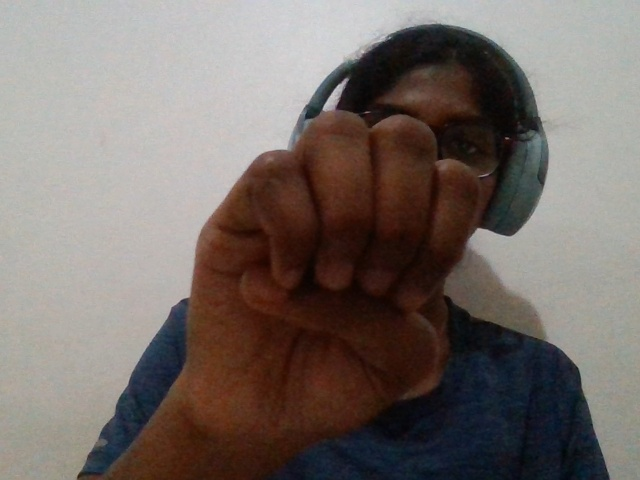E: (133, 81, 504, 480)
